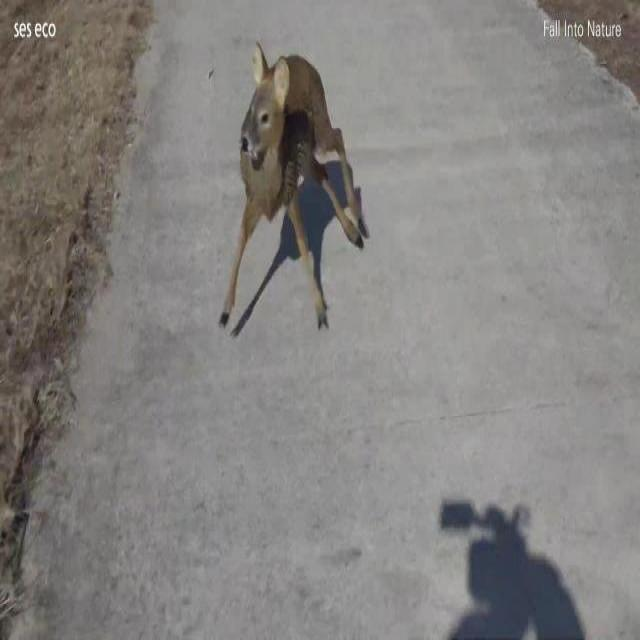deer: (220, 42, 370, 330)
